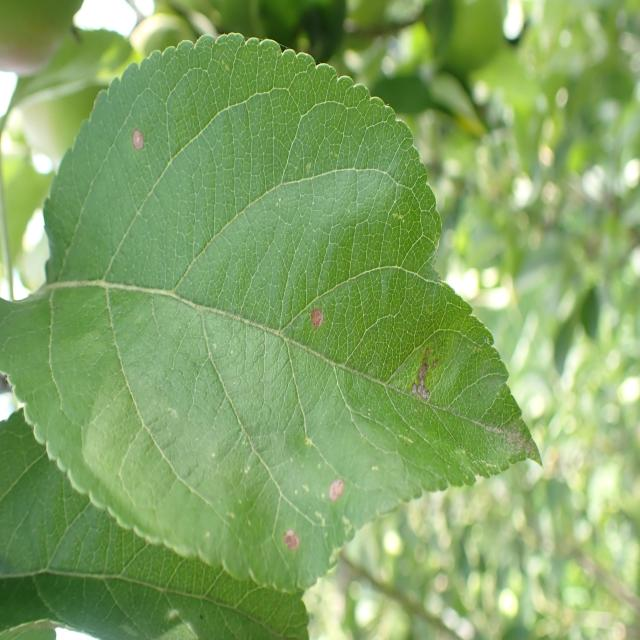Black Rot: (396, 344, 446, 437), (262, 506, 308, 562), (294, 301, 333, 344), (126, 111, 151, 178), (317, 468, 350, 517)
